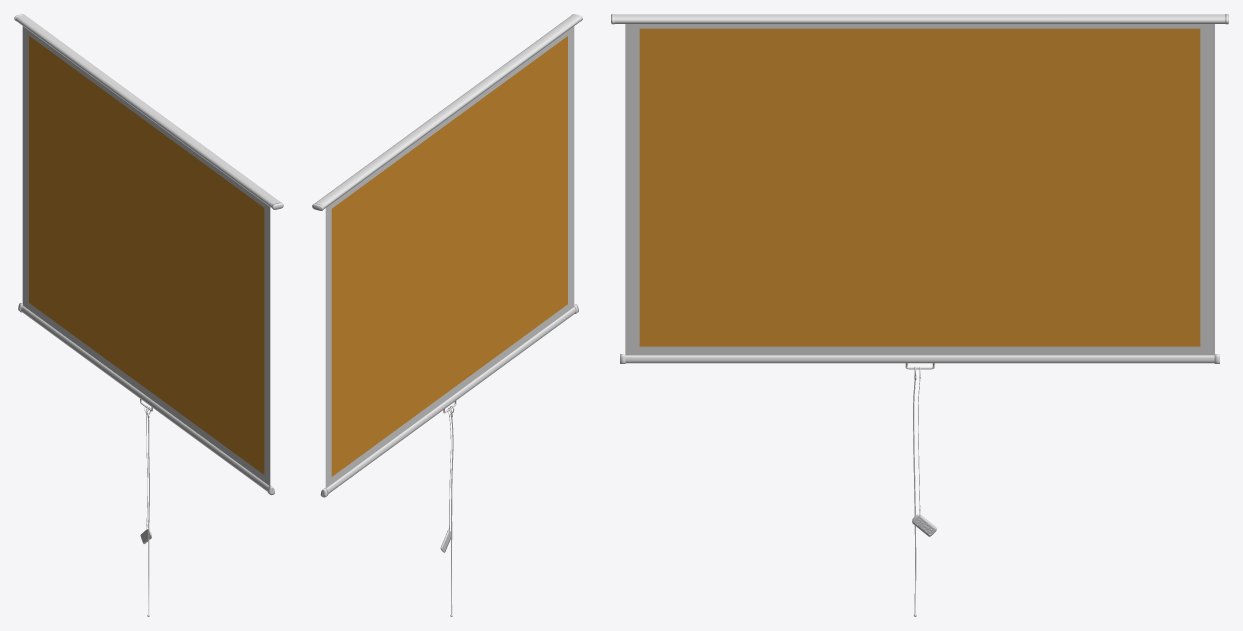
File: digibotd.fbx
3 views of the same model, side by side, from view 1: azimuth 30°, elevation 25°; view 2: azimuth 150°, elevation 25°; view 3: azimuth 270°, elevation 25° (orthographic). The views are drawn at different scales.
Visible parts, largest first — view 1: Plane.001; view 2: Plane.001; view 3: Plane.001.
Part boxes in pixels (left/top/right/bottom): Plane.001: left=14, top=14, right=283, bottom=616; Plane.001: left=312, top=14, right=582, bottom=616; Plane.001: left=611, top=14, right=1228, bottom=616.
Size of the model in its own units: 0.052 by 2.31 by 2.15.
